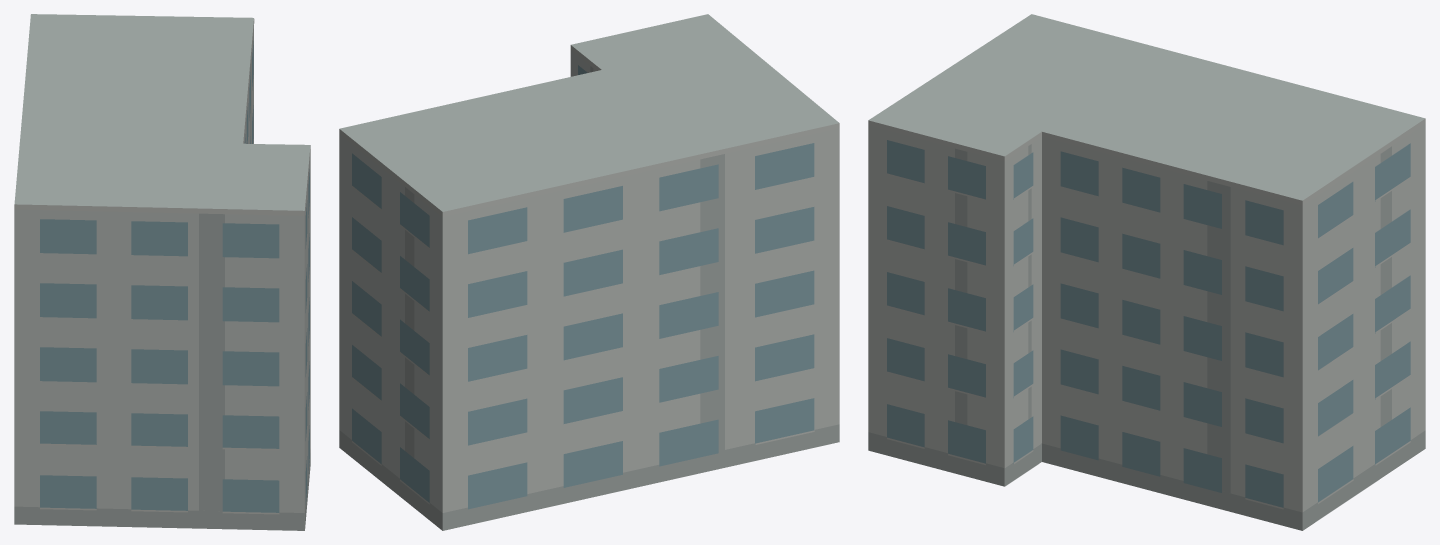
Rendered from survey-upis-33045308.glb.
3 renders of one model, left to right at view 1: azimuth 30°, elevation 25°; view 2: azimuth 150°, elevation 25°; view 3: azimuth 270°, elevation 25°, orthographic. The views are drawn at different scales.
Parts seen in each view (by area): view 1: survey-upis-33045308.tmp; view 2: survey-upis-33045308.tmp; view 3: survey-upis-33045308.tmp.
Boxes of the visible parts, box(x1,y1,x2,y2) form: survey-upis-33045308.tmp: box(14, 14, 310, 530); survey-upis-33045308.tmp: box(339, 14, 839, 530); survey-upis-33045308.tmp: box(868, 14, 1425, 530).
Size of the model in its own units: 18.5 by 15.25 by 23.34.
